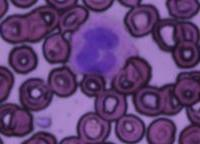N: (69, 14, 137, 78)
